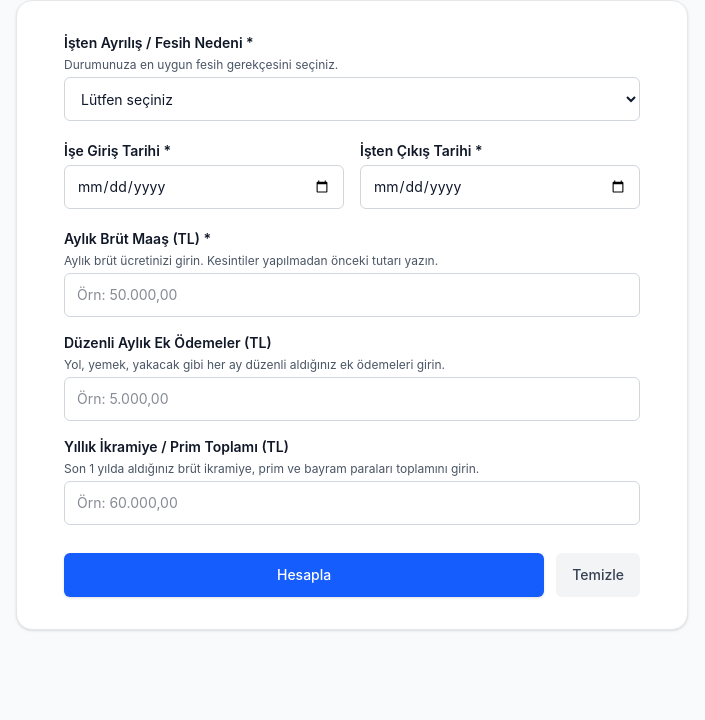
it: Calculator — Senaryo 2 (Tavan Uygulandı) › S2 senaryosunda tavan uyarısının NoticeList içinde göründüğünü test et
// S2 formunu doldur (Emeklilik, tavan üstü maaş)
Select "Emeklilik, askerlik veya evlilik nedeniyle ayrıldım" in the dropdown labelled "İşten Ayrılış / Fesih Nedeni *": (352, 99) [64,77,640,121]
In the date field labelled "İşe Giriş Tarihi *": (204, 187) [64,165,344,209], type "2024-10-01"
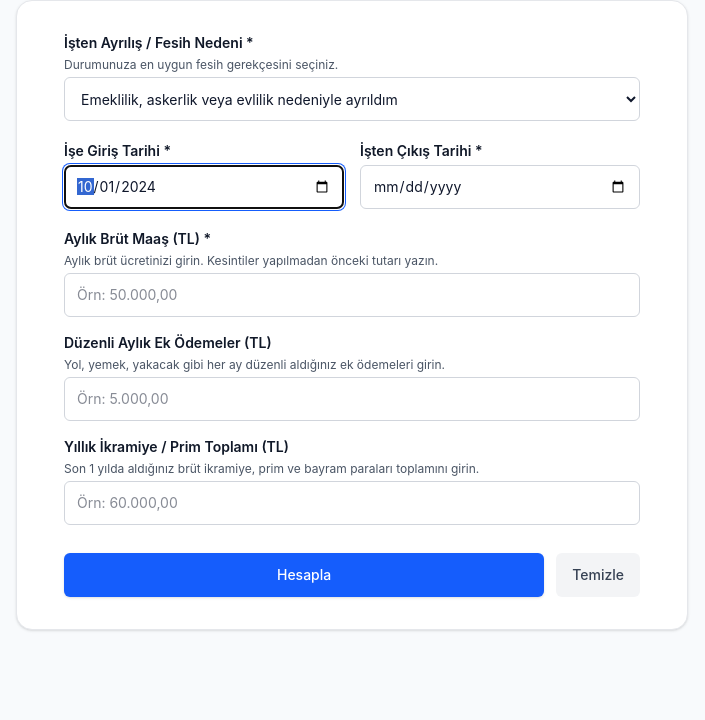
In the date field labelled "İşten Çıkış Tarihi *": (500, 187) [360,165,640,209], type "2026-09-30"
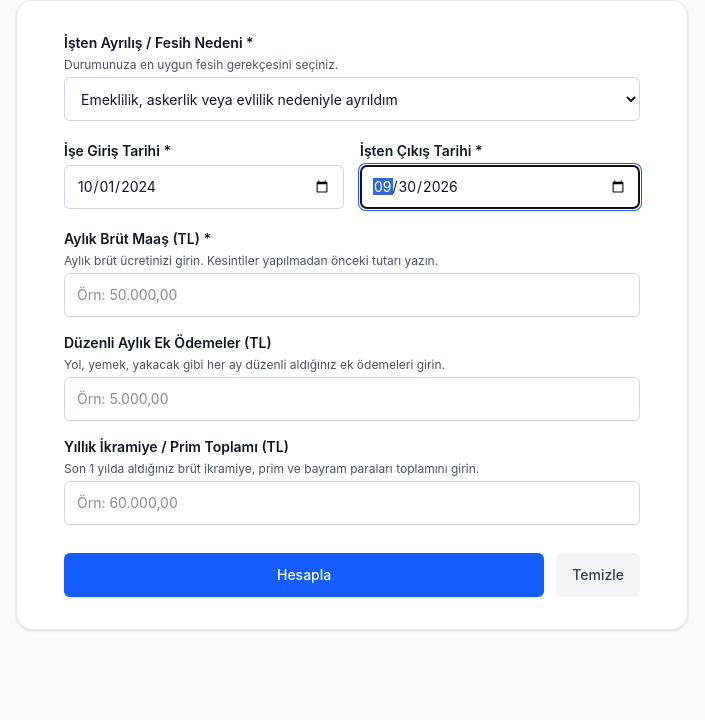
In the field labelled "Aylık Brüt Maaş (TL) *": (352, 295) [64,273,640,317], type "90000"
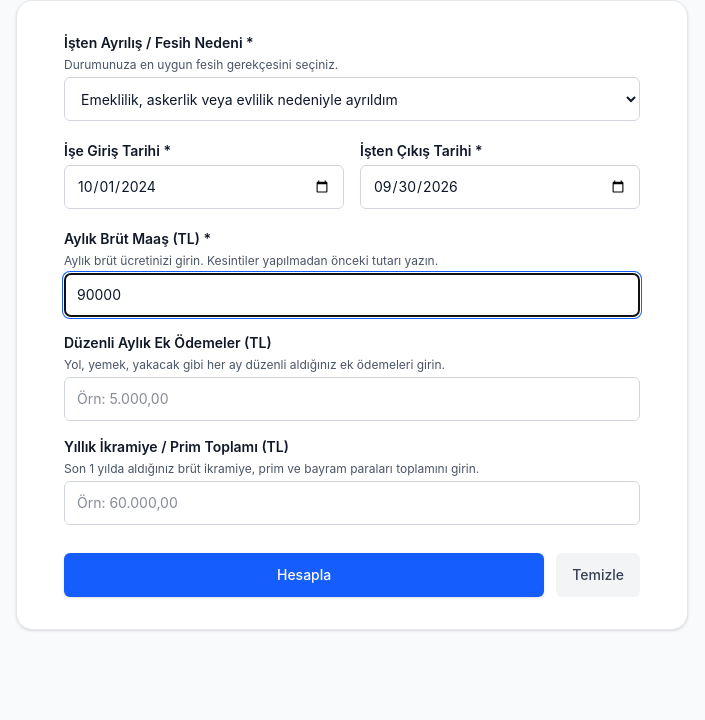
In the field labelled "Düzenli Aylık Ek Ödemeler (TL)": (352, 399) [64,377,640,421], type "5000"
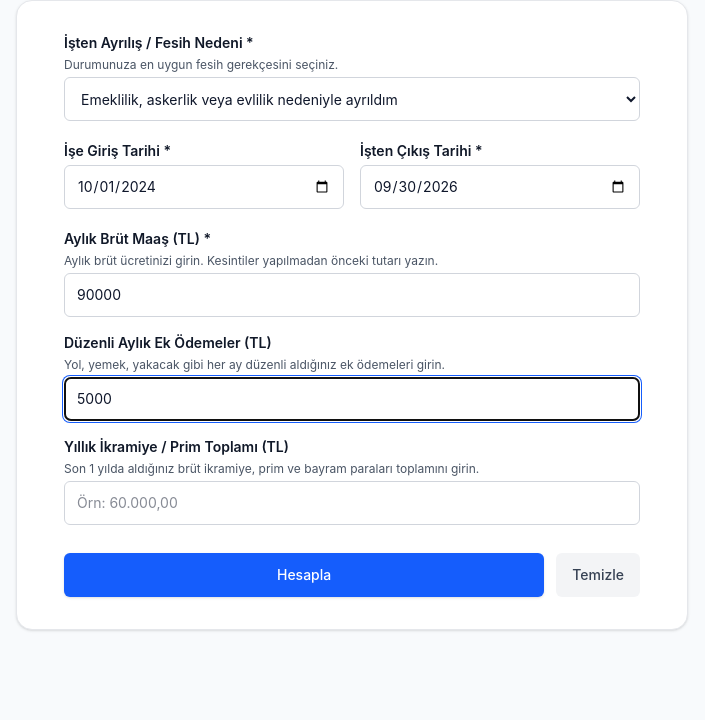
In the field labelled "Yıllık İkramiye / Prim Toplamı (TL)": (352, 503) [64,481,640,525], type "60000"
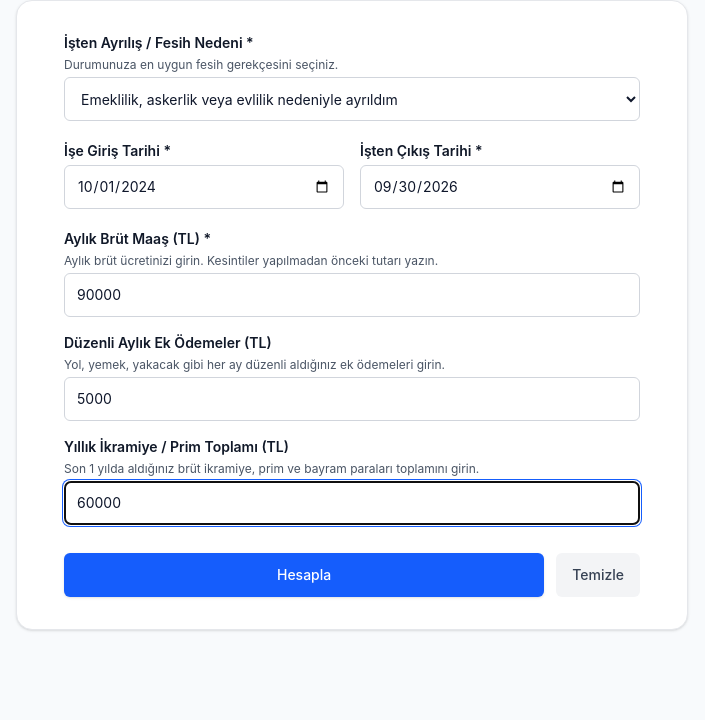
Click the button "Hesapla": (304, 575) [64,553,544,597]
(page scrolled)
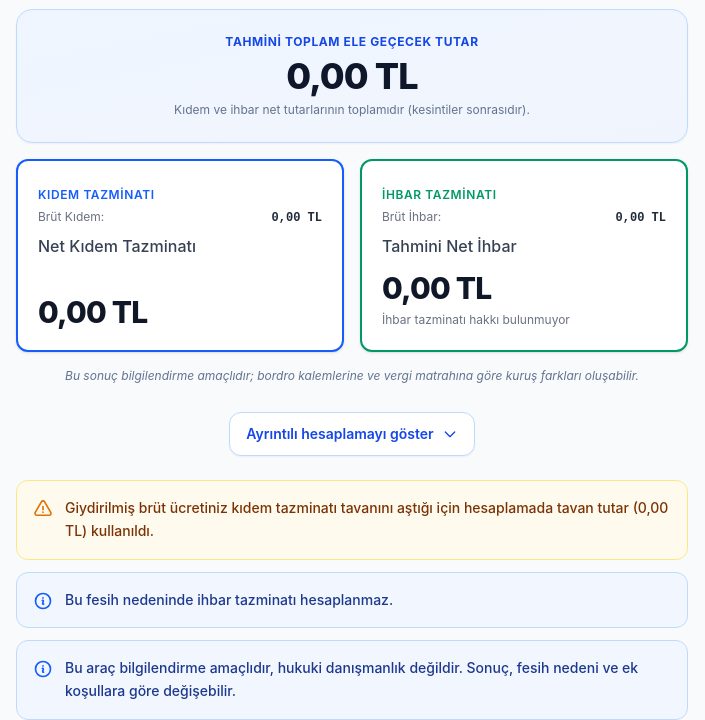
Expected: the text "kıdem tazminatı tavanını aştığı için hesaplamada tavan tutar" is shown, [65,499,668,539]
